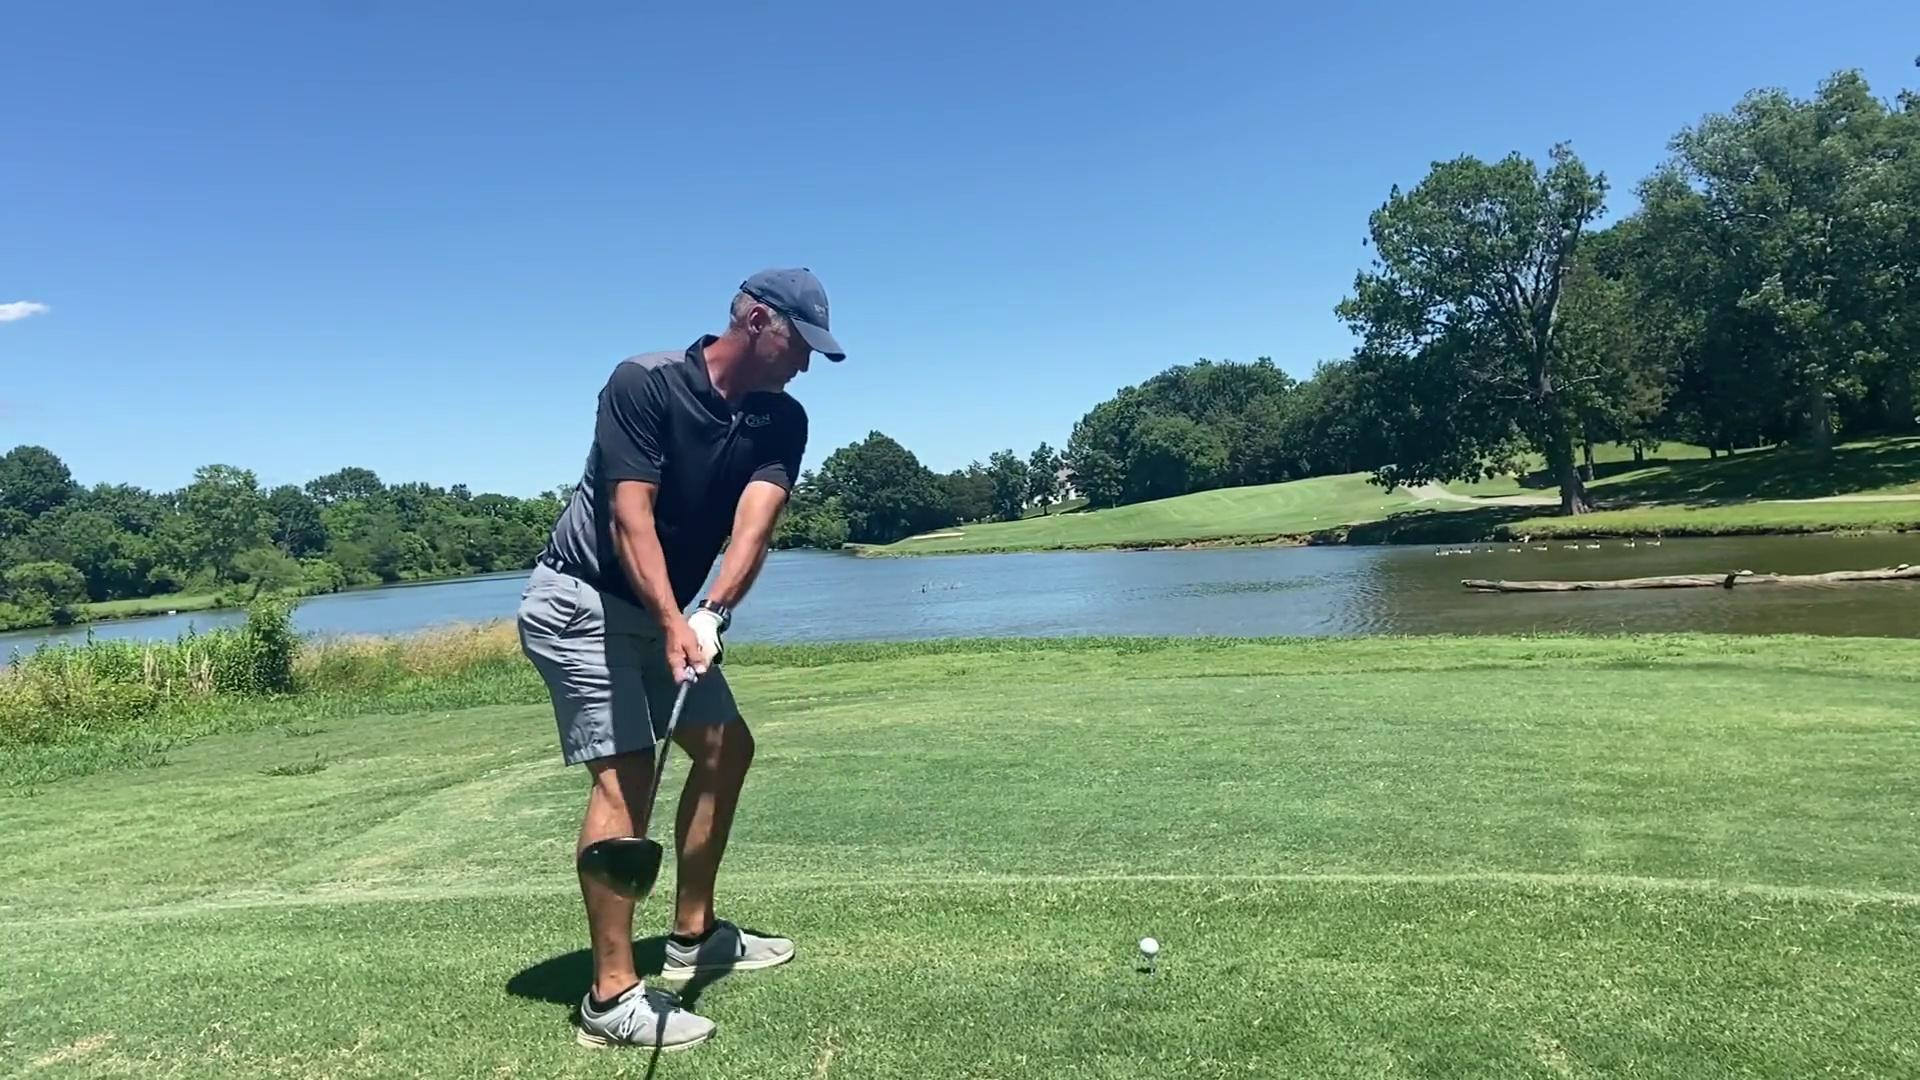ClubHead: (575, 833, 669, 902)
GolfBall: (1138, 935, 1160, 957)
